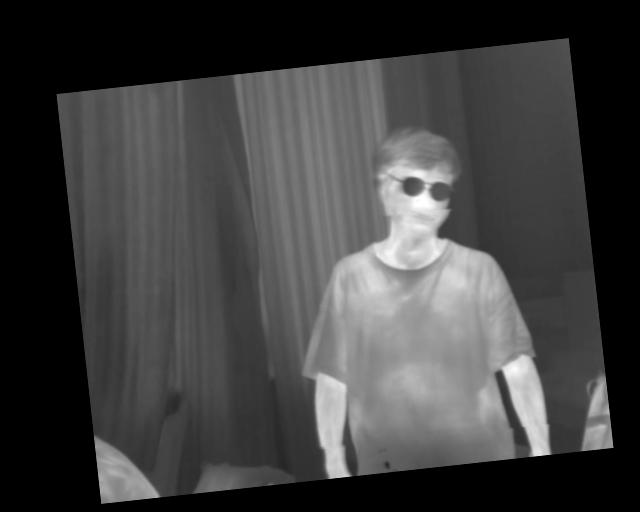face: (369, 120, 469, 244)
